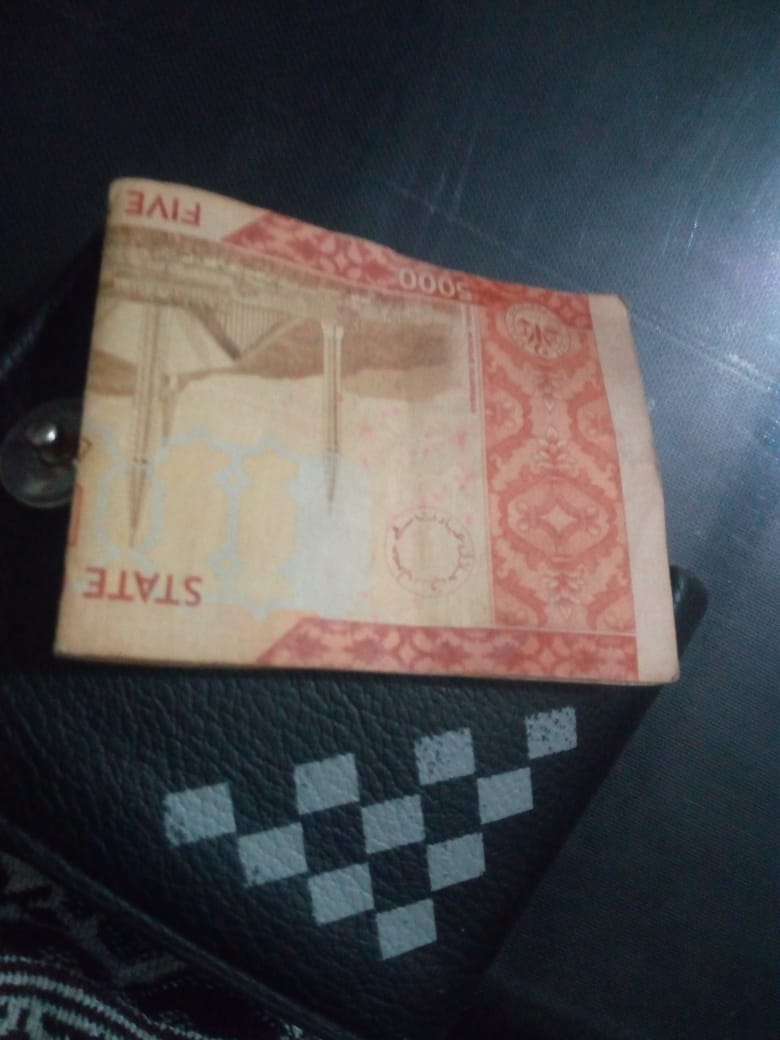5000 rupee: (36, 142, 713, 686)
